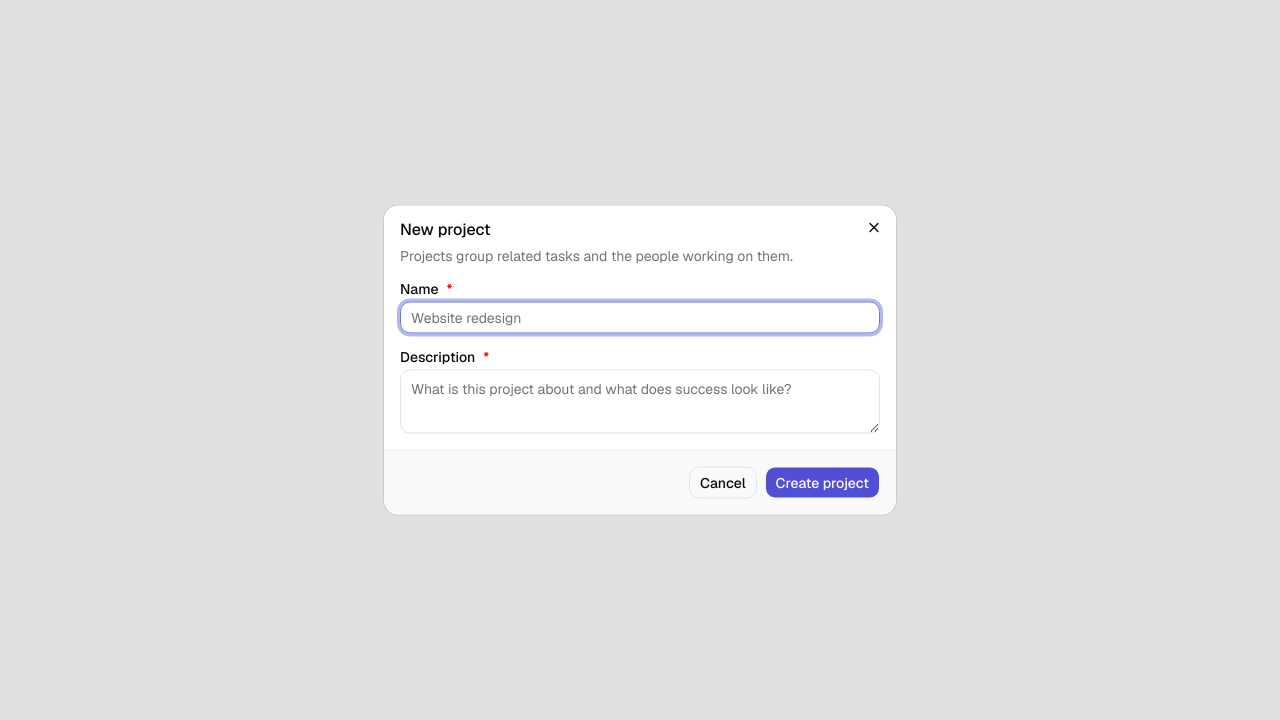
Scenario: ProjectFormDialog (create) › shows a 403 from the API inline and keeps the dialog open with values intact
Type "Alpha" into the field labelled "Name *". click: (640, 318)
box: [400,302,880,334]
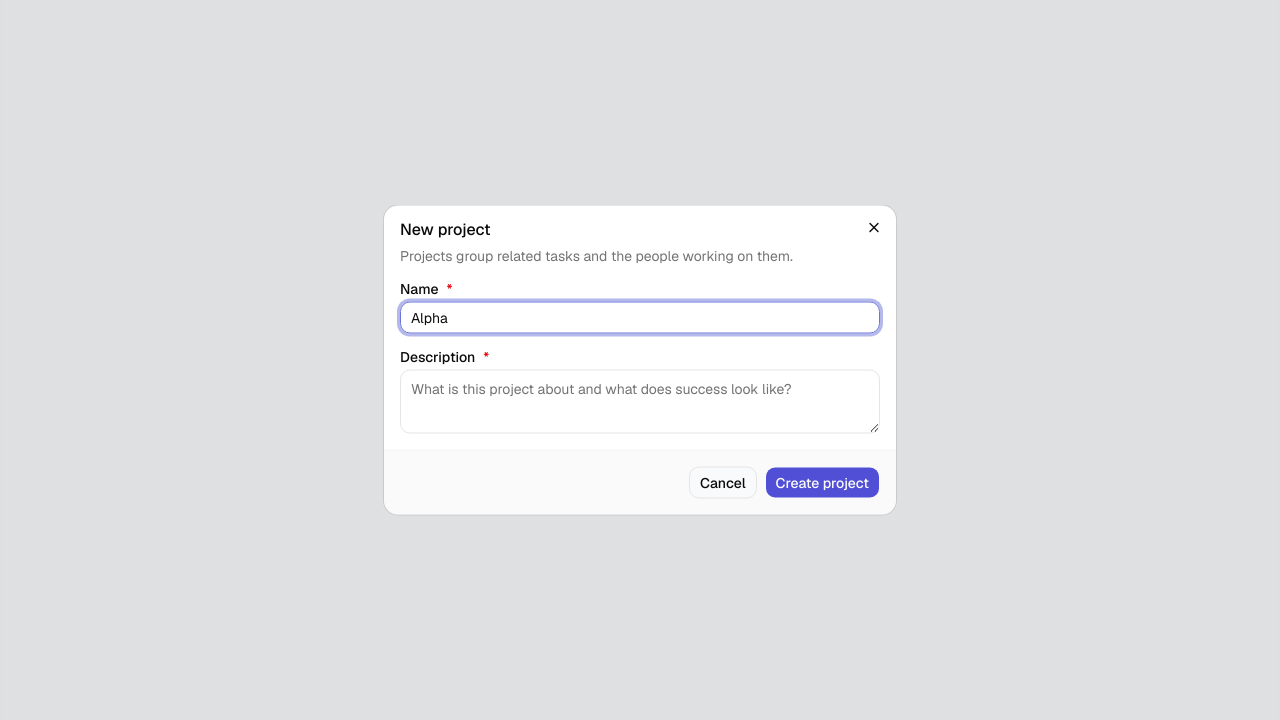
Type "Beta" into the text box labelled "Description *". click: (640, 402)
box: [400,370,880,434]
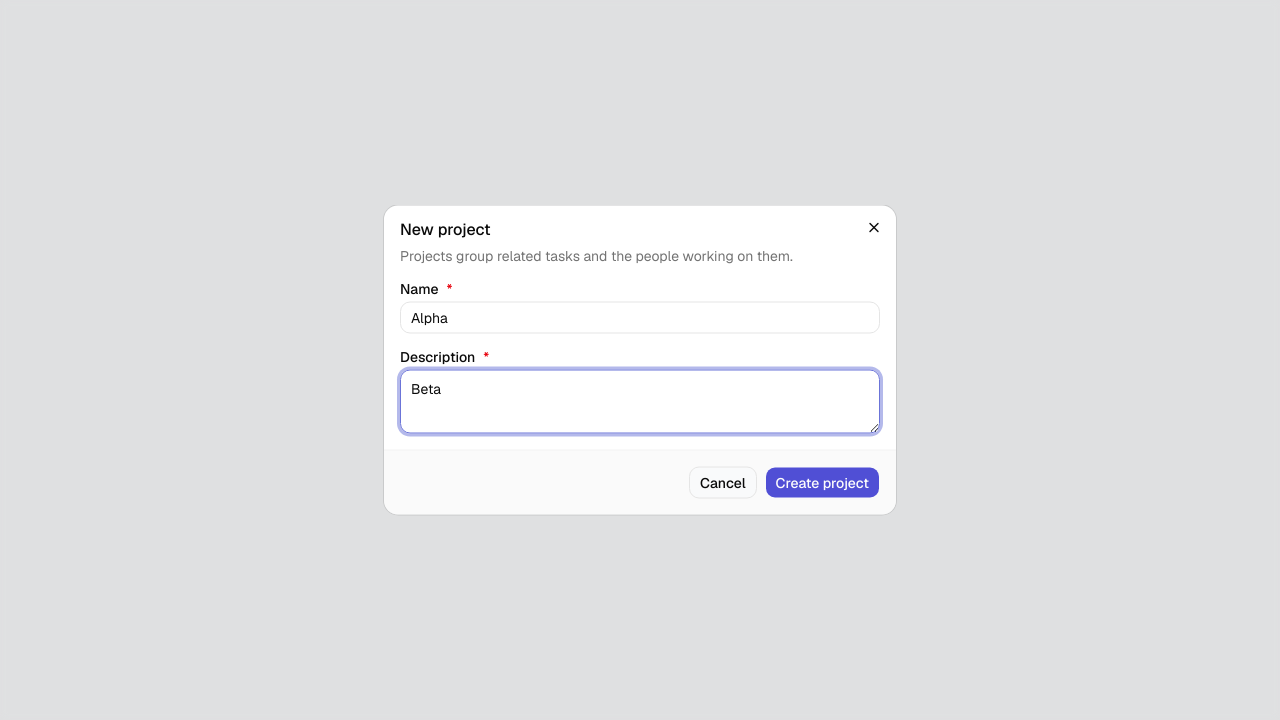
Click the button "Create project". click: (822, 482)
box: [765,466,880,498]
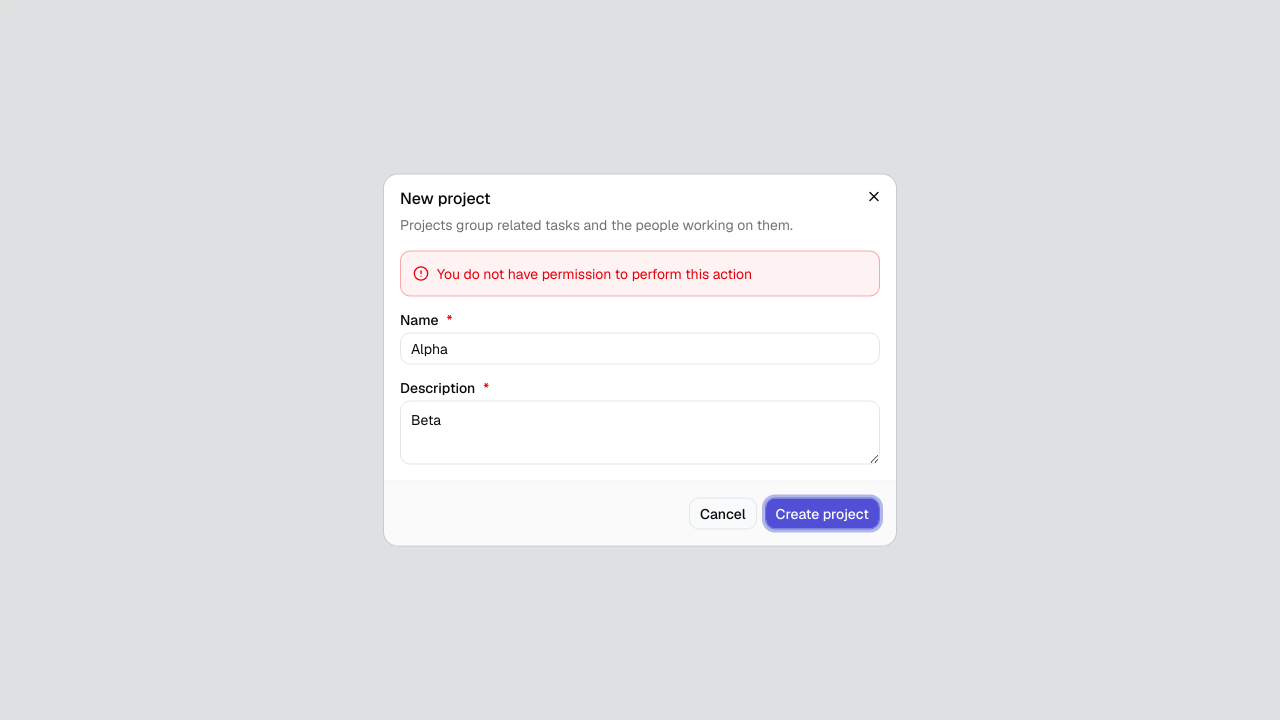
Expected: the message shows "You do not have permission", [437,264,752,282]
